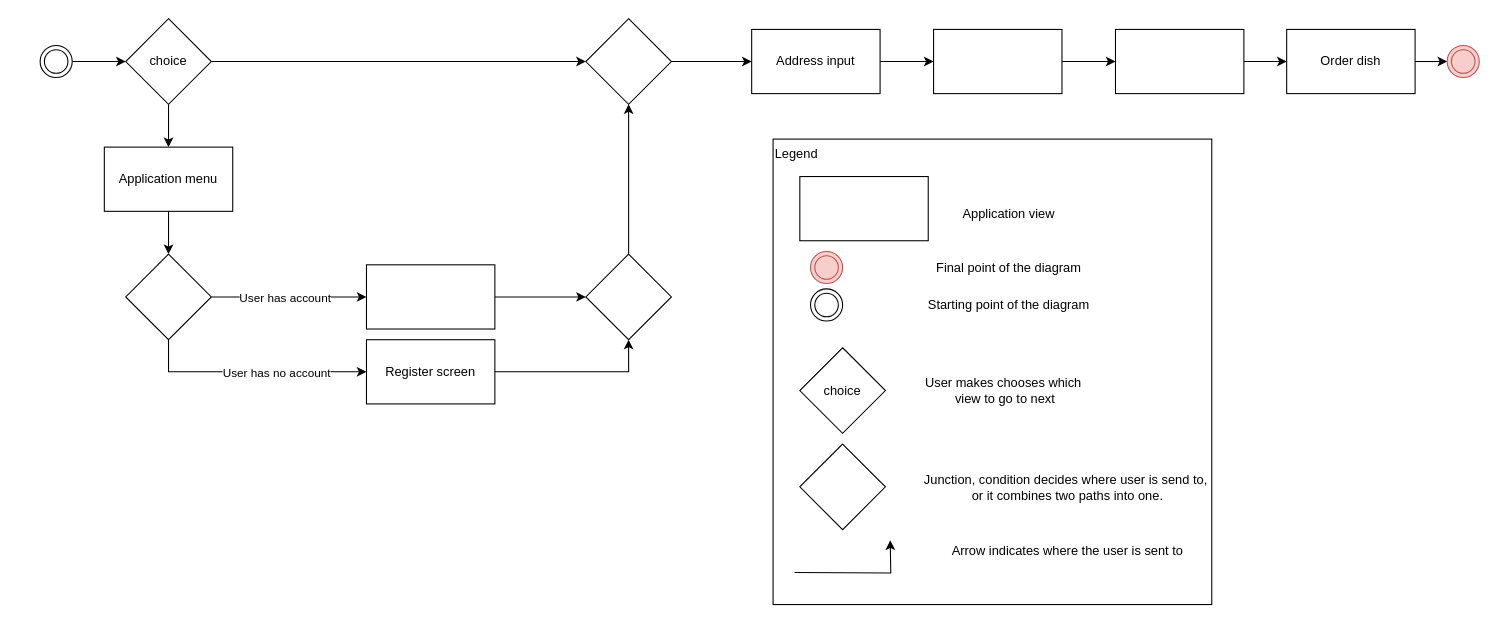
This 1498x624 diagram has some shape labels left out. Each missing label, with the box of its shape:
<<title>>: (799, 175, 928, 241)
List of dishes for restaurant: (1114, 28, 1244, 94)
List of restaurants: (933, 28, 1062, 94)
Login screen: (365, 264, 495, 329)
